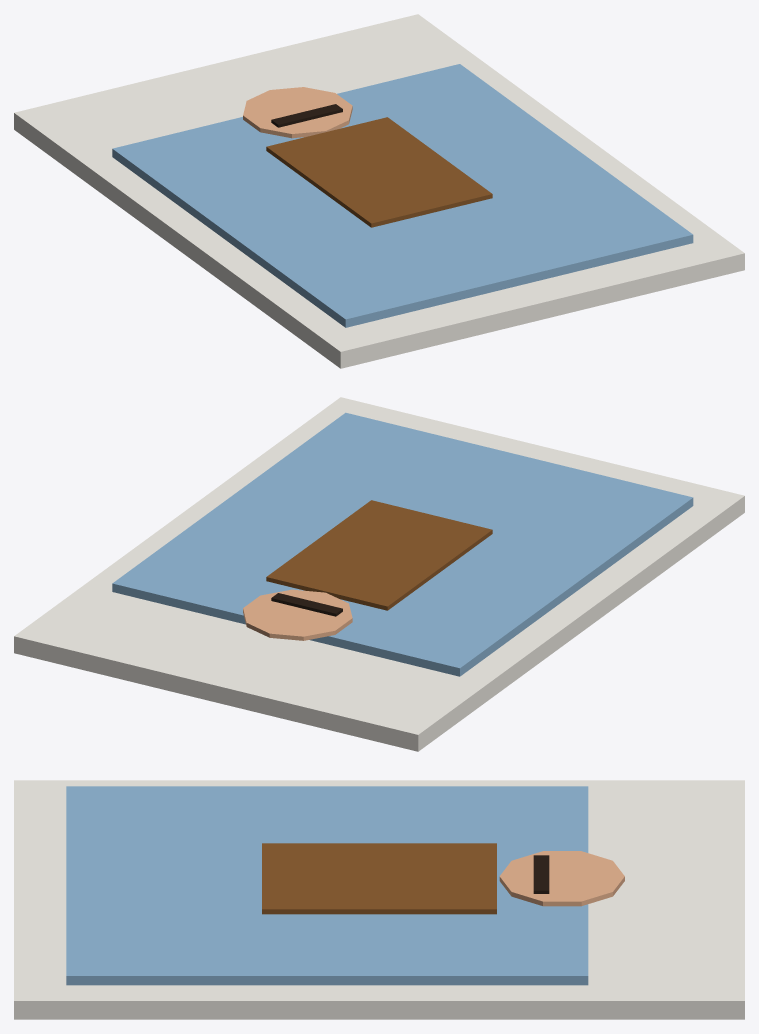
The model's file is disguise_photo.glb.
The picture shows the model from 3 angles, top to bottom: view 1: azimuth 30°, elevation 25°; view 2: azimuth 150°, elevation 25°; view 3: azimuth 270°, elevation 25°; orthographic projection. The views are drawn at different scales.
Visible parts, largest first — view 1: picture_photo_sky, paper_photo_white, body_uniform_brown, face_skin, mustache_mustache; view 2: picture_photo_sky, paper_photo_white, body_uniform_brown, face_skin, mustache_mustache; view 3: picture_photo_sky, paper_photo_white, body_uniform_brown, face_skin, mustache_mustache.
Part boxes in pixels (x1,y1,x2,y2): picture_photo_sky: (112,64,693,327); paper_photo_white: (14,14,744,368); body_uniform_brown: (266,117,492,227); face_skin: (243,87,352,138); mustache_mustache: (271,104,342,127); picture_photo_sky: (112,412,693,676); paper_photo_white: (14,397,744,751); body_uniform_brown: (266,500,492,610); face_skin: (243,589,352,640); mustache_mustache: (271,593,342,616); picture_photo_sky: (66,786,588,985); paper_photo_white: (14,780,744,1019); body_uniform_brown: (262,843,496,914); face_skin: (499,851,624,906); mustache_mustache: (533,855,549,893).
Size of the model in its own units: 0.1 by 0.0077 by 0.14.
